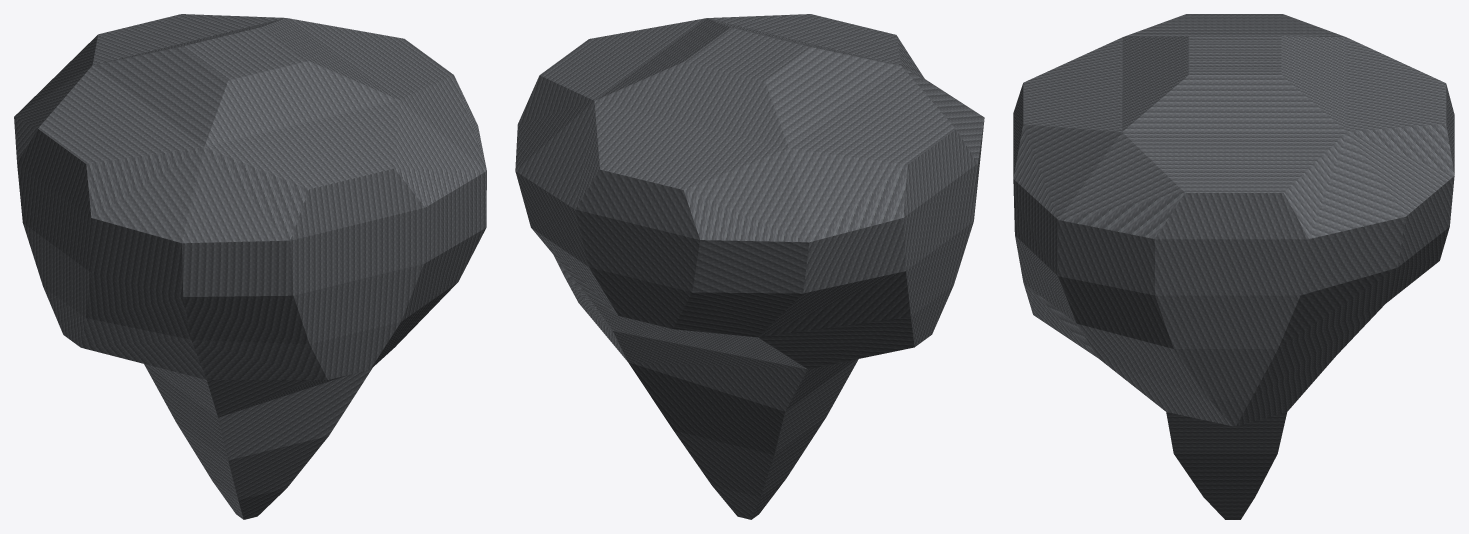
Rendered from RockMass.fbx.
The picture shows the model from 3 angles, left to right: view 1: azimuth 30°, elevation 25°; view 2: azimuth 150°, elevation 25°; view 3: azimuth 270°, elevation 25°; orthographic projection.
Parts seen in each view (by area): view 1: Cube.067; view 2: Cube.067; view 3: Cube.067.
Boxes of the visible parts, box(x1,y1,x2,y2) form: Cube.067: box(14, 14, 486, 519); Cube.067: box(515, 14, 984, 519); Cube.067: box(1013, 14, 1454, 519).
Bounding box in the file's own units: 6363 × 7291 × 6329.
